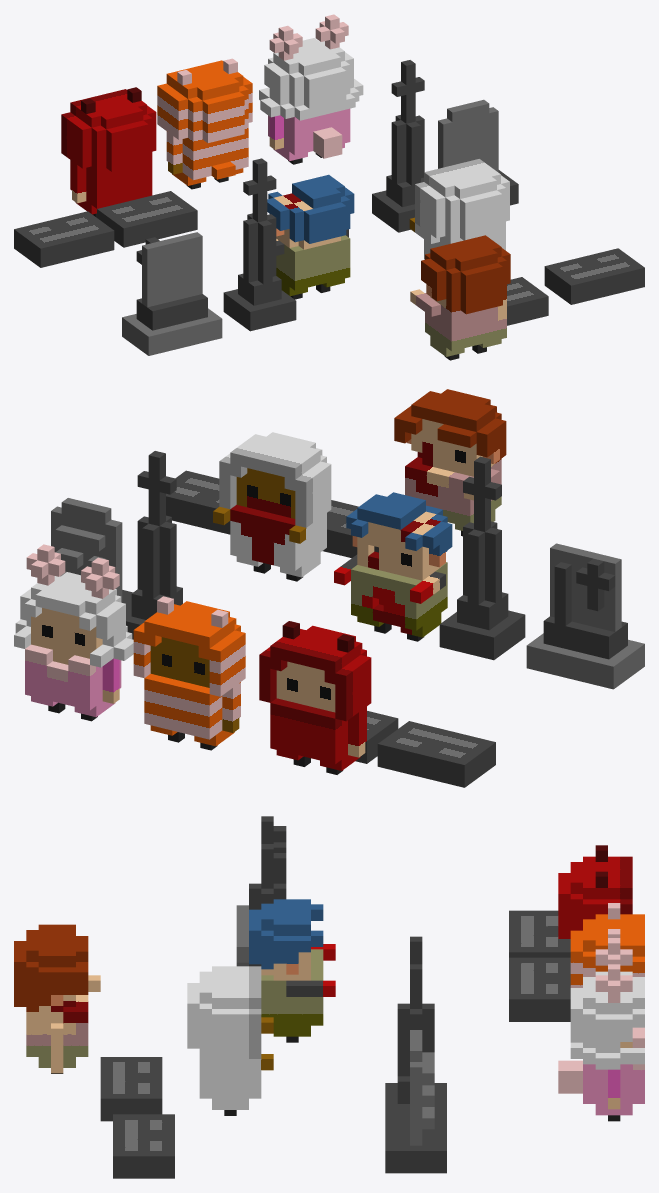
The model's file is scene_grave.fbx.
The picture shows the model from 3 angles, top to bottom: view 1: azimuth 30°, elevation 25°; view 2: azimuth 150°, elevation 25°; view 3: azimuth 270°, elevation 25°; orthographic projection. The views are drawn at different scales.
Parts seen in each view (by area): view 1: scene_grave; view 2: scene_grave; view 3: scene_grave.
Part boxes in pixels (box(x1,y1,x2,y2)): scene_grave: box(14, 14, 644, 360); scene_grave: box(14, 389, 644, 787); scene_grave: box(14, 816, 644, 1178).
Size of the model in its own units: 4.8 by 5.1 by 1.6.
1 material, 1 textured.
